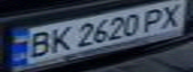0: (121, 11, 148, 37)
2: (106, 12, 130, 42), (72, 20, 96, 48)
6: (93, 16, 112, 45)
B: (18, 29, 57, 60)
K: (45, 24, 75, 54)
P: (139, 6, 172, 34)
X: (154, 1, 190, 29)
